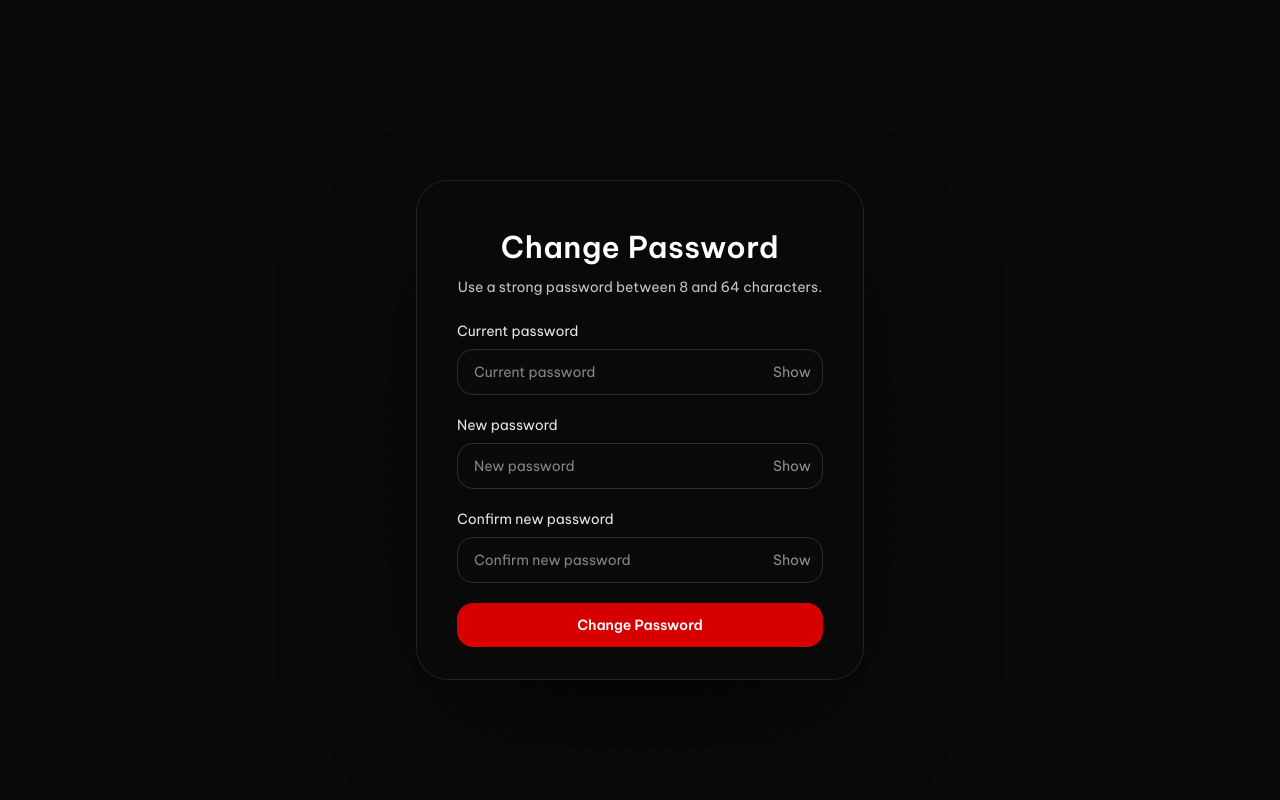
Test: ChangePasswordPage › validates password format and length
Type "invalid-current-password" into the password field with placeholder "Current password" at (640, 372), box [457,349,823,395]
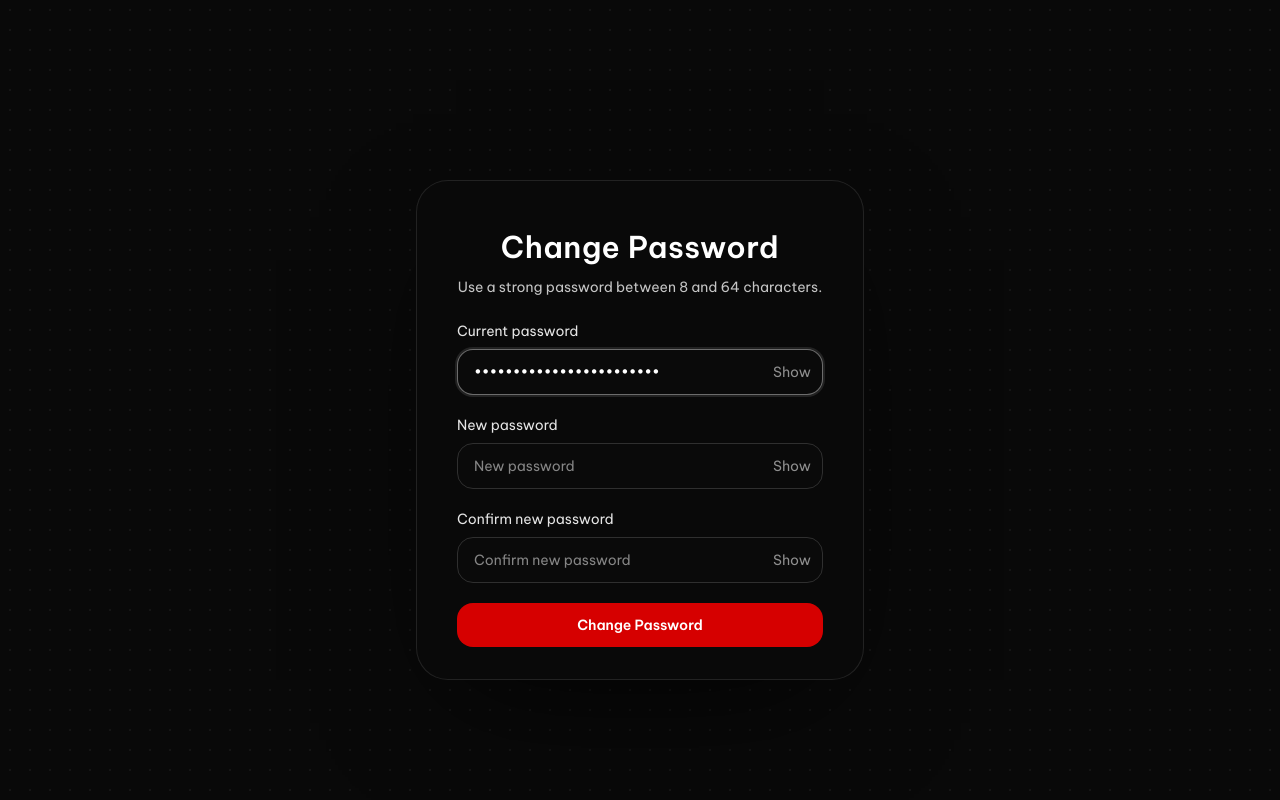
Type "short" into the password field with placeholder "New password" at (640, 466), box [457,443,823,489]
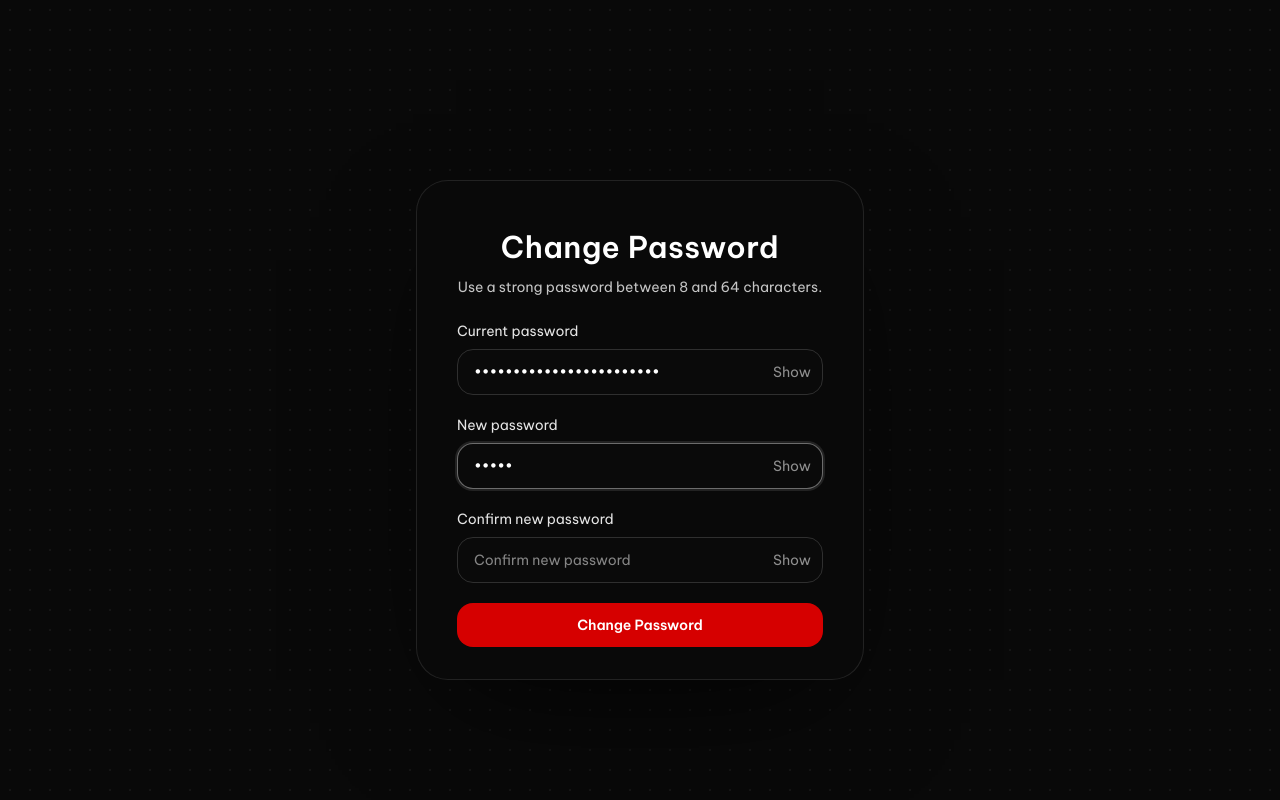
Type "mismatch" into the password field with placeholder "Confirm new password" at (640, 560), box [457,537,823,583]
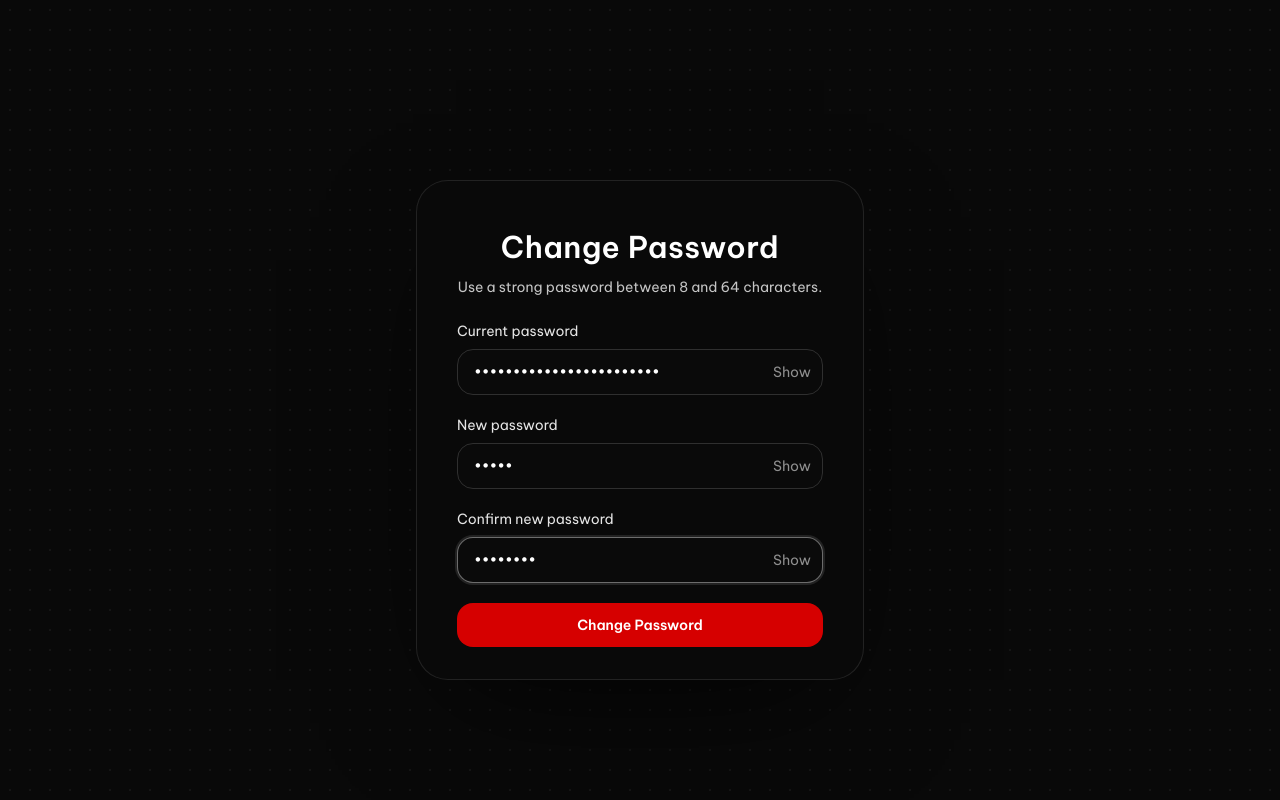
Click the button "Change Password" at (640, 625), box [457,603,823,647]
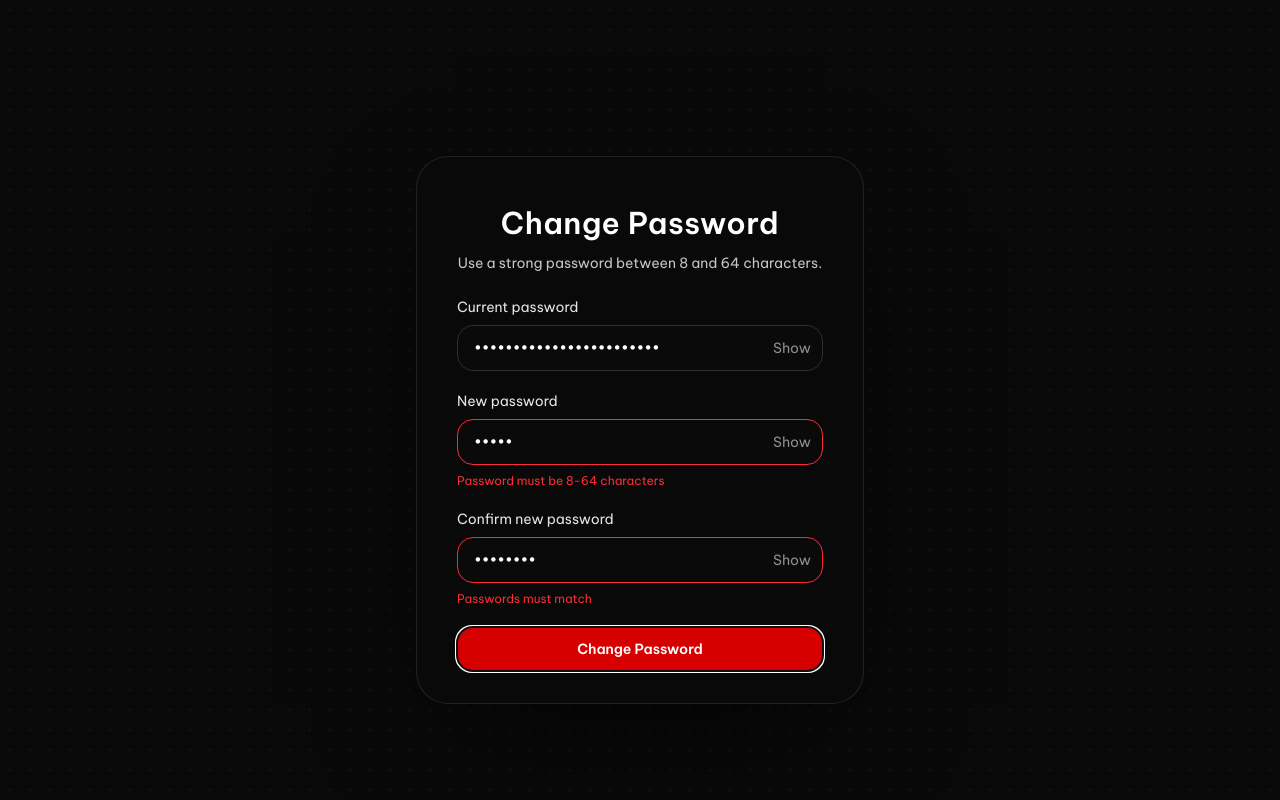
Expected: the text "Password must be 8-64 characters" is shown, [457,473,664,488]
Expected: the text "Passwords must match" is shown, [457,591,592,606]
